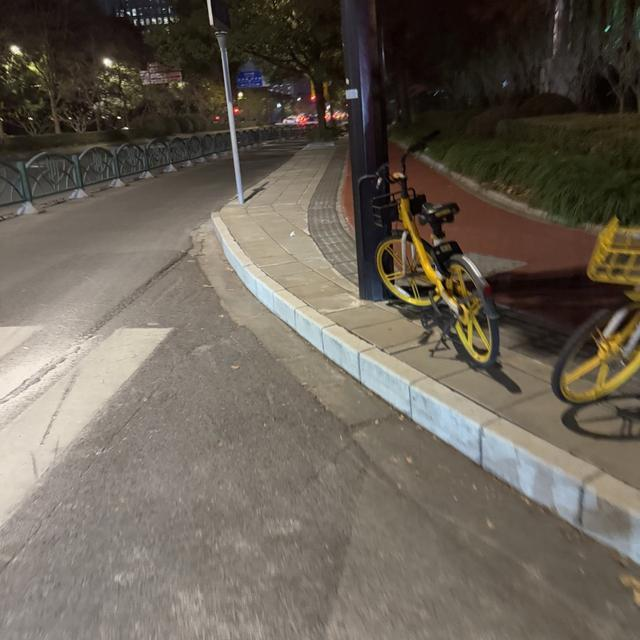curb: (212, 214, 639, 563), (416, 148, 574, 226), (577, 223, 602, 234)
